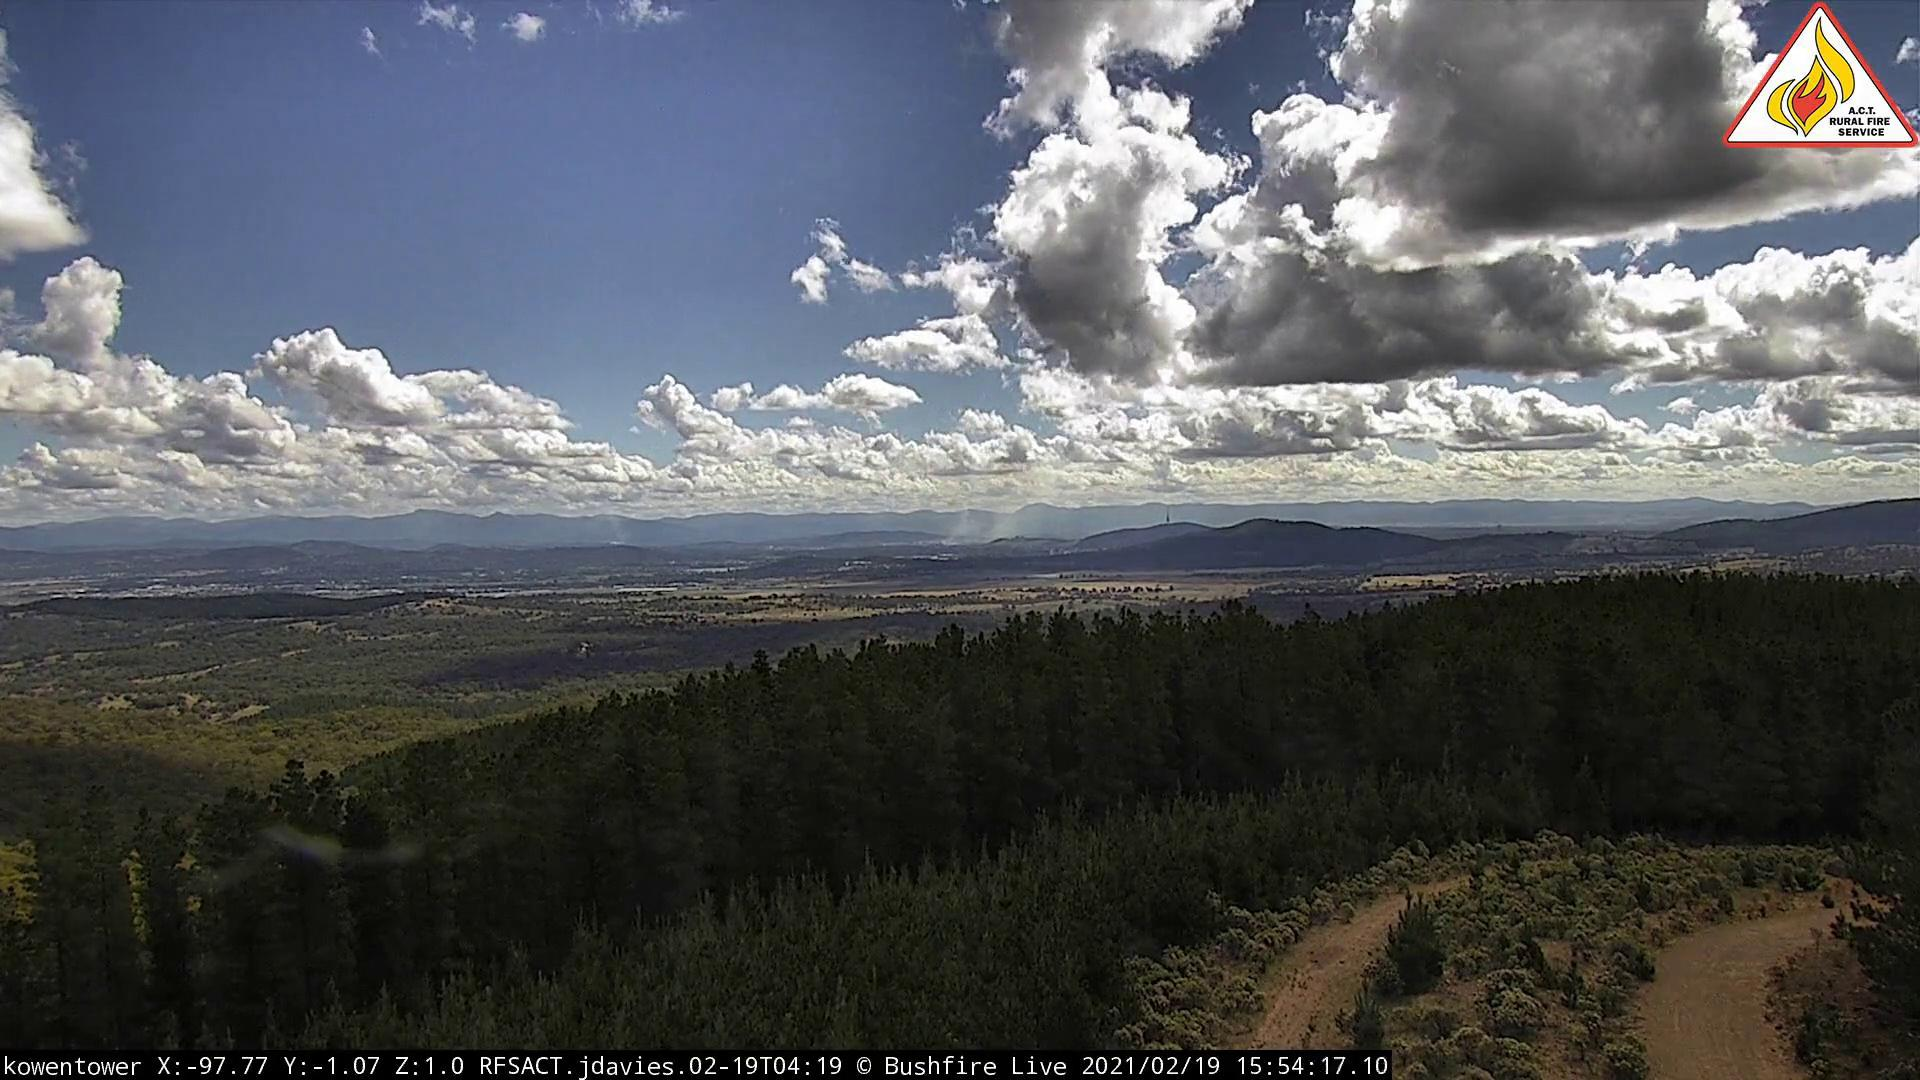Smoke: (945, 502, 1054, 550), (609, 529, 636, 551)
